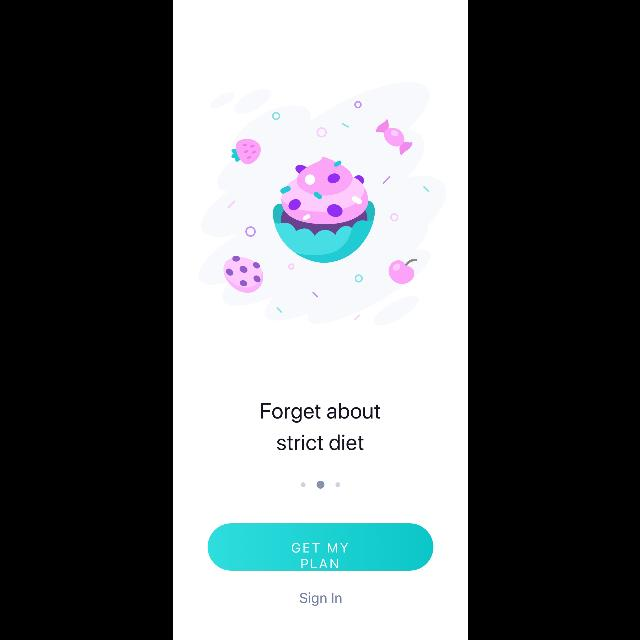image: (198, 81, 447, 326)
pageindicator: (300, 480, 340, 490)
text: (260, 403, 380, 451), (299, 592, 341, 606)
textbutton: (207, 524, 433, 570)
